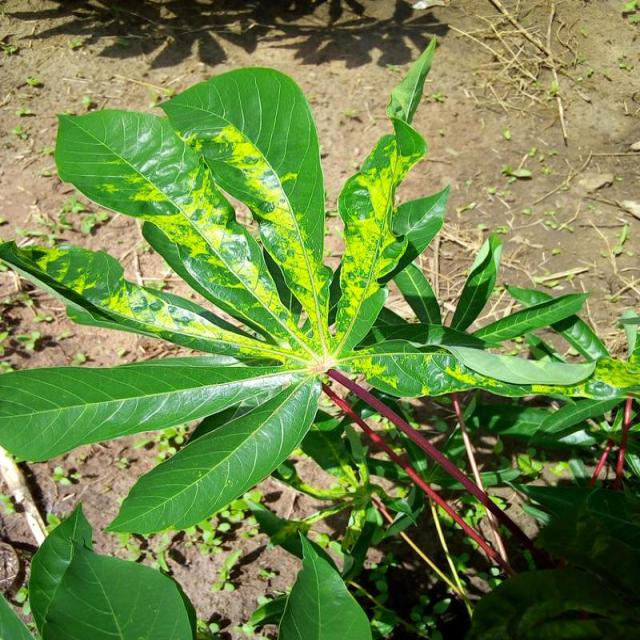cassava leaf: (1, 35, 626, 560), (101, 369, 322, 536), (26, 501, 197, 638)
